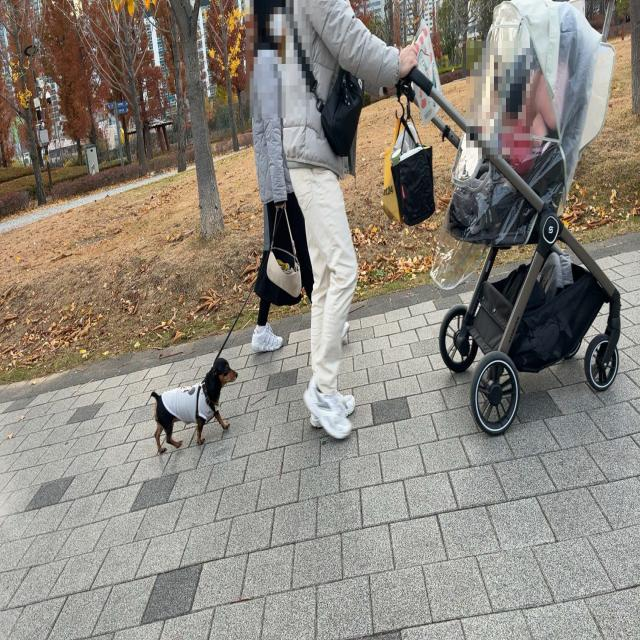Leashed_Dog: (152, 188, 287, 454)
